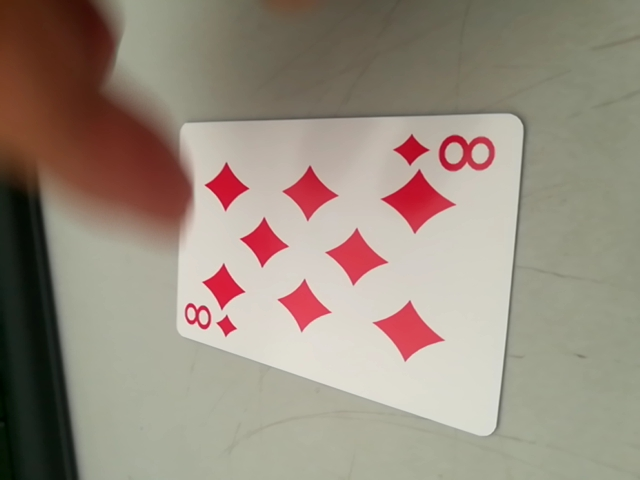fk 8: (394, 124, 501, 175), (179, 300, 242, 342)
